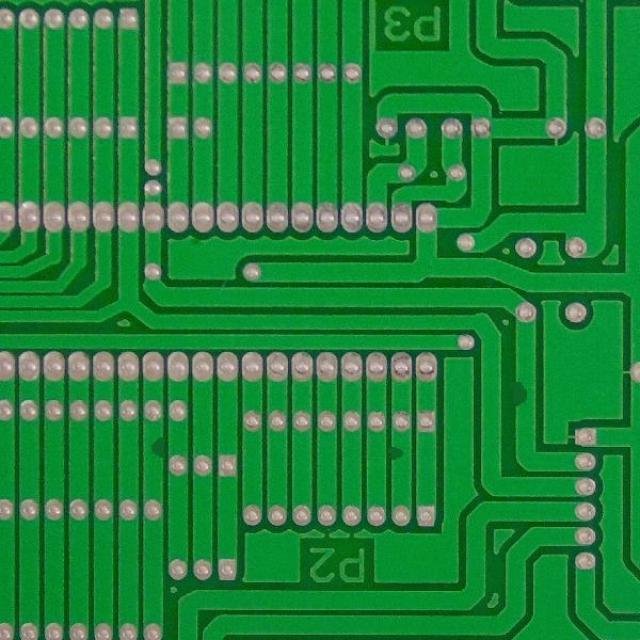mouse_bite: (508, 373, 534, 414), (147, 435, 170, 461), (384, 441, 404, 466)
